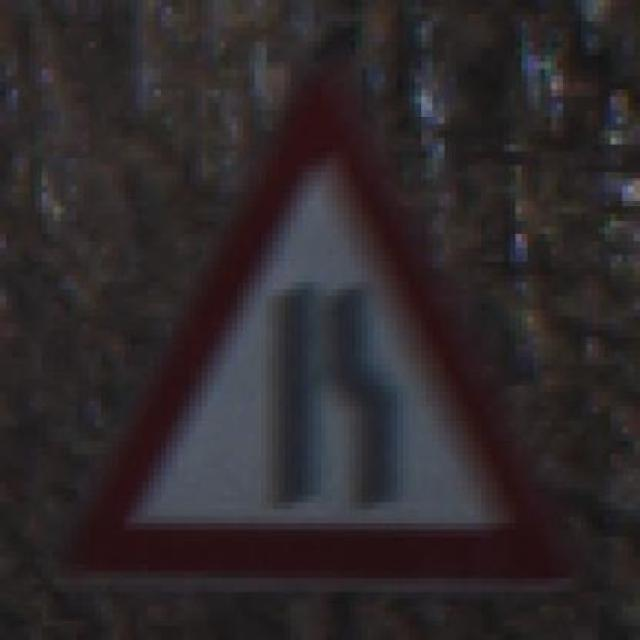-Road narrows on right: (53, 41, 581, 599)
